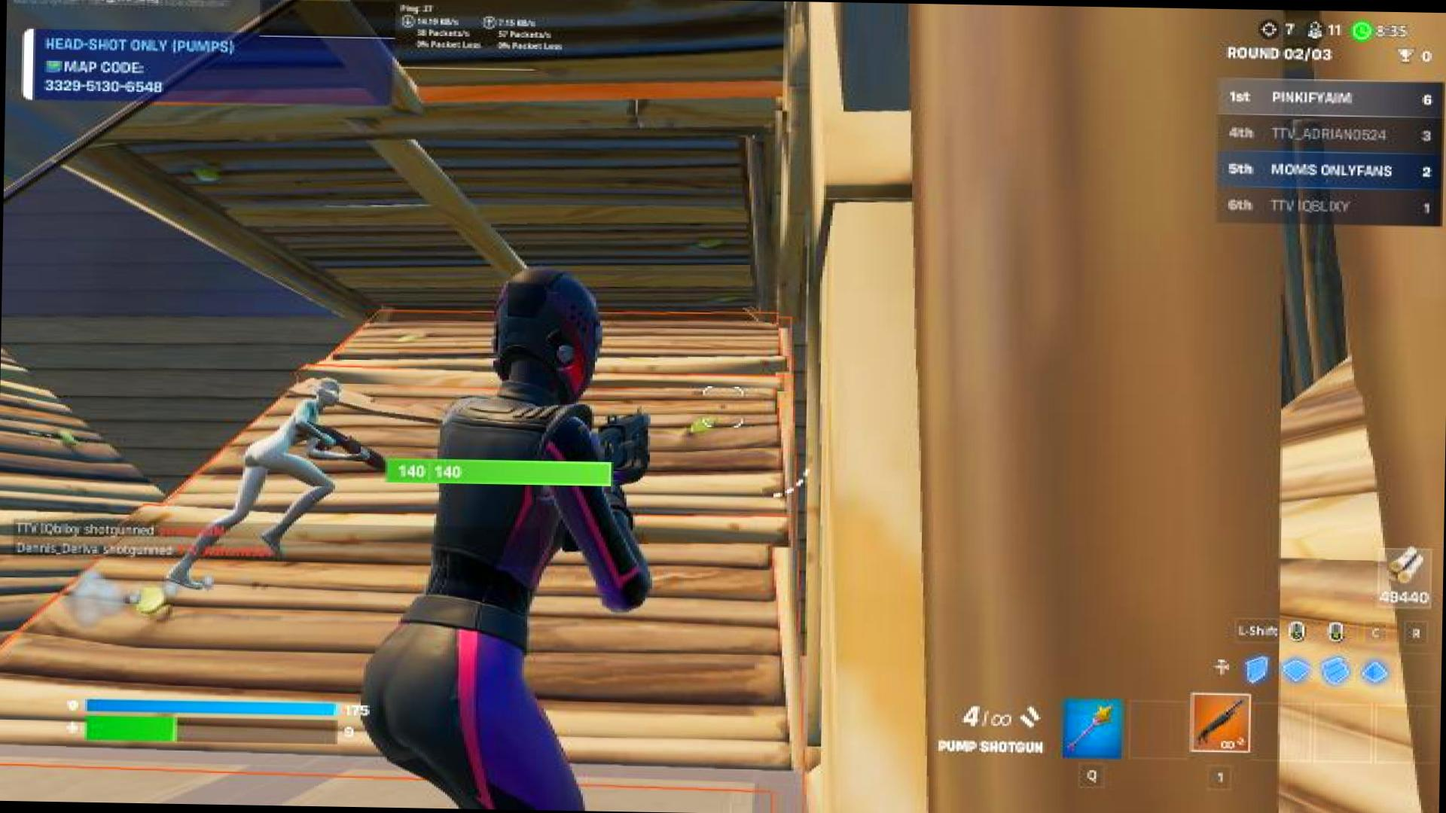player: (176, 371, 369, 568)
